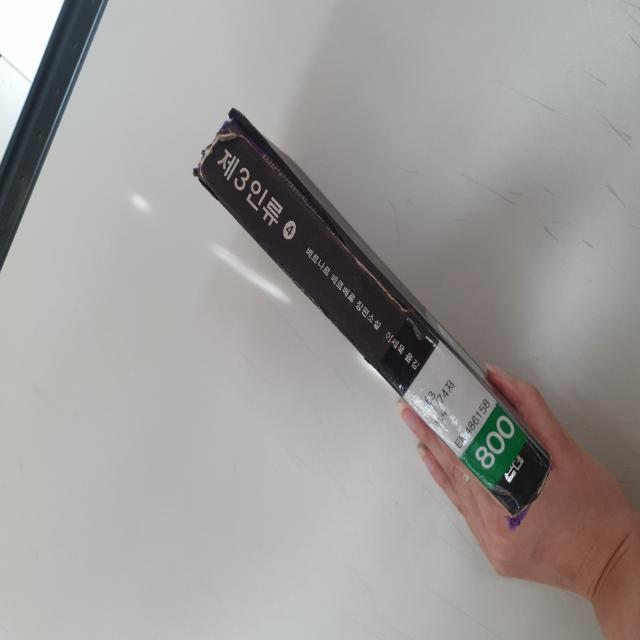Ripped: (228, 112, 412, 316), (186, 159, 233, 215)
Wornout: (259, 245, 351, 340), (198, 122, 242, 170), (536, 454, 553, 499), (360, 352, 375, 368)
